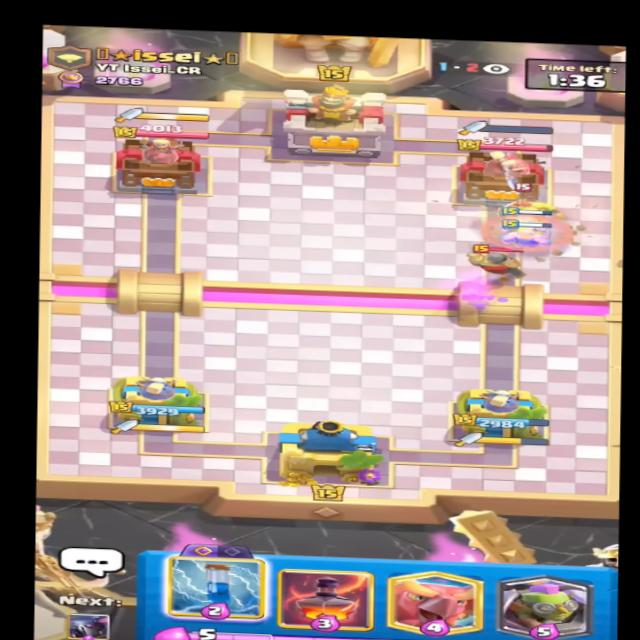goblin-demolisher: (499, 178, 561, 226)
knight: (460, 237, 531, 283)
